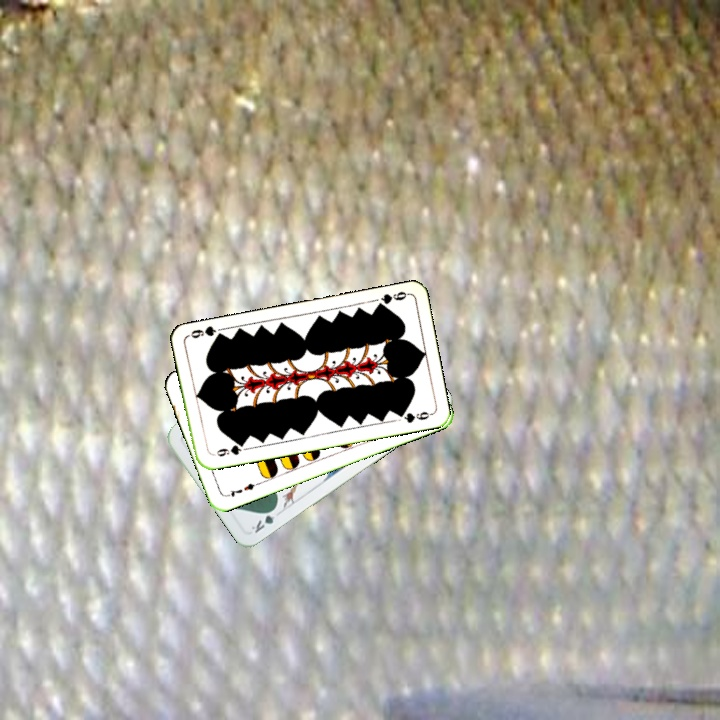E7: (222, 479, 261, 500)
G9: (372, 287, 411, 311), (208, 439, 247, 459)
GK: (247, 503, 279, 536)
